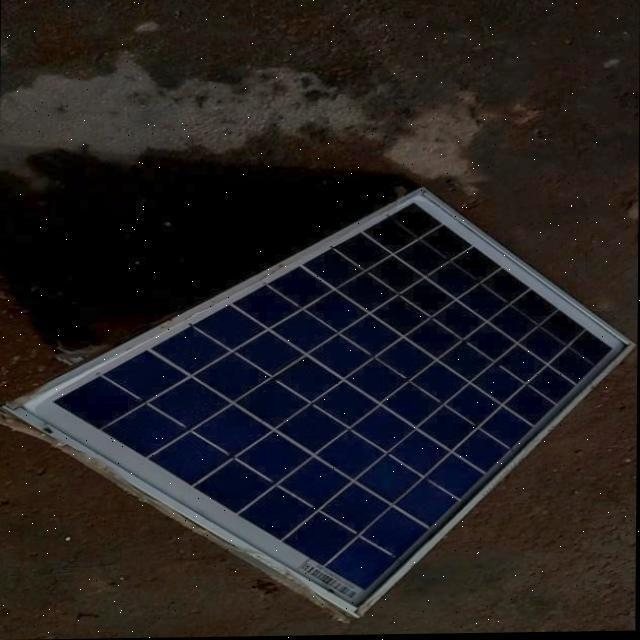Normal Solar Panel: (0, 187, 634, 626)
